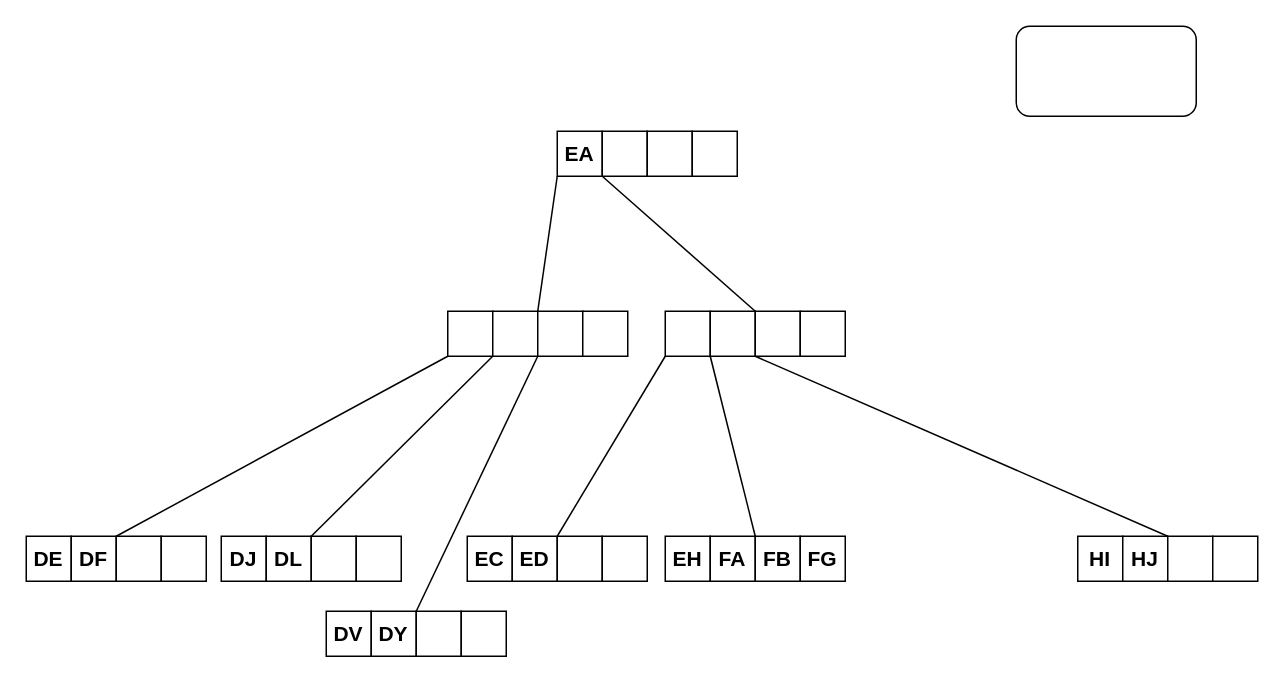
The diagram is 1284 pixels wide and 683 high, and some of its shapes have lost their labels. Each missing label, with the centre of its shape:
"DI" belongs at (x=469, y=333).
"DM" belongs at (x=514, y=333).
"EF" belongs at (x=687, y=333).
"FO" belongs at (x=732, y=333).
"remover EK" belongs at (x=1105, y=70).
